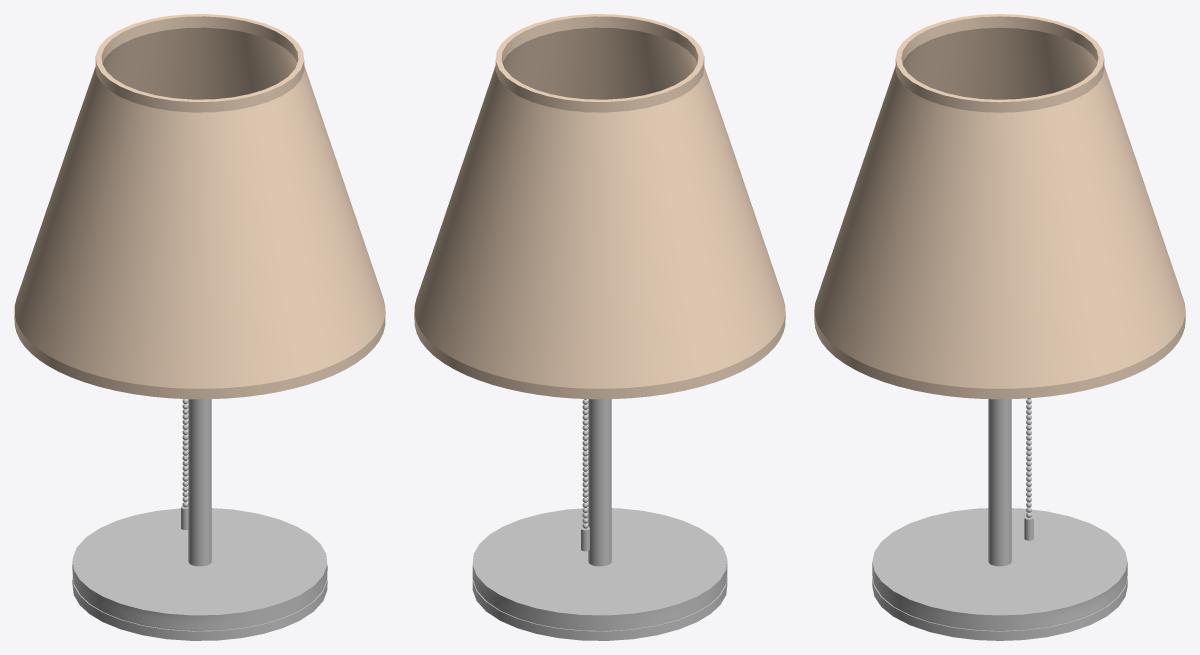
Rendered from 879_standlight.glb.
The picture shows the model from 3 angles, left to right: view 1: azimuth 30°, elevation 25°; view 2: azimuth 150°, elevation 25°; view 3: azimuth 270°, elevation 25°; orthographic projection.
Visible parts, largest first — view 1: Body; view 2: Body; view 3: Body.
Part boxes in pixels (x1,y1,x2,y2): Body: [14, 14, 385, 640]; Body: [414, 14, 785, 640]; Body: [814, 14, 1185, 640].
Bounding box in the file's own units: 0.32 × 0.5032 × 0.32.
